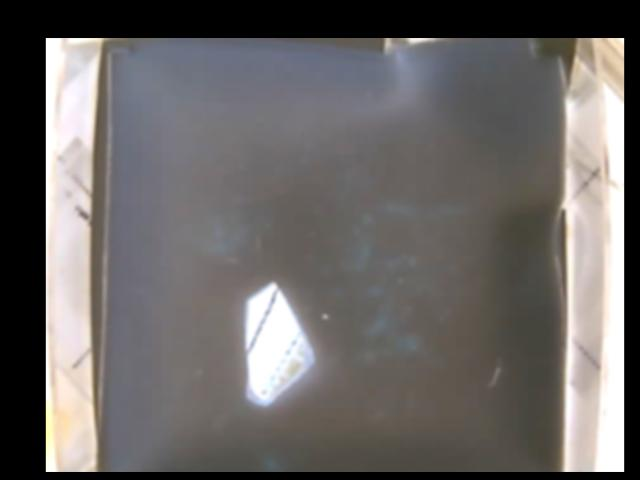China: (243, 280, 316, 405)
